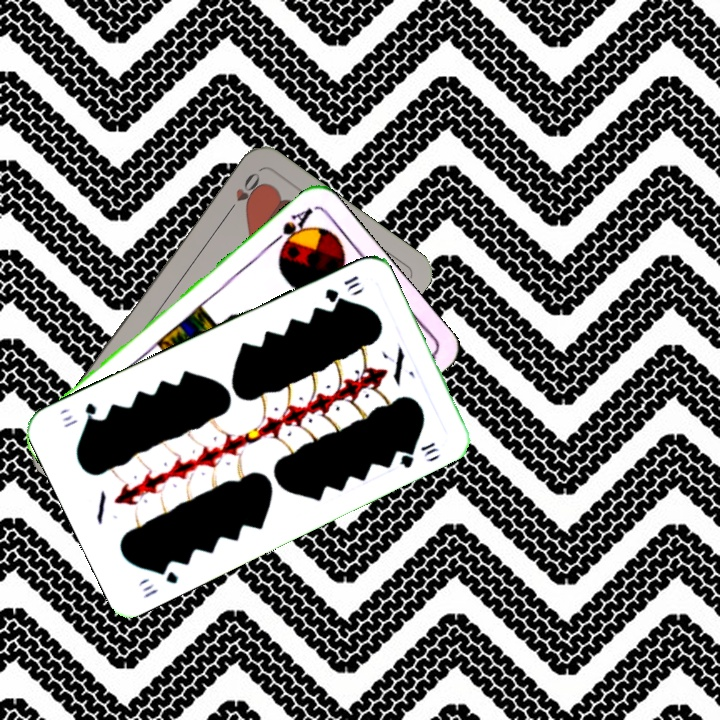G10: (138, 562, 181, 601), (321, 271, 364, 305)
HO: (222, 168, 263, 218)
SA: (267, 203, 316, 255)
